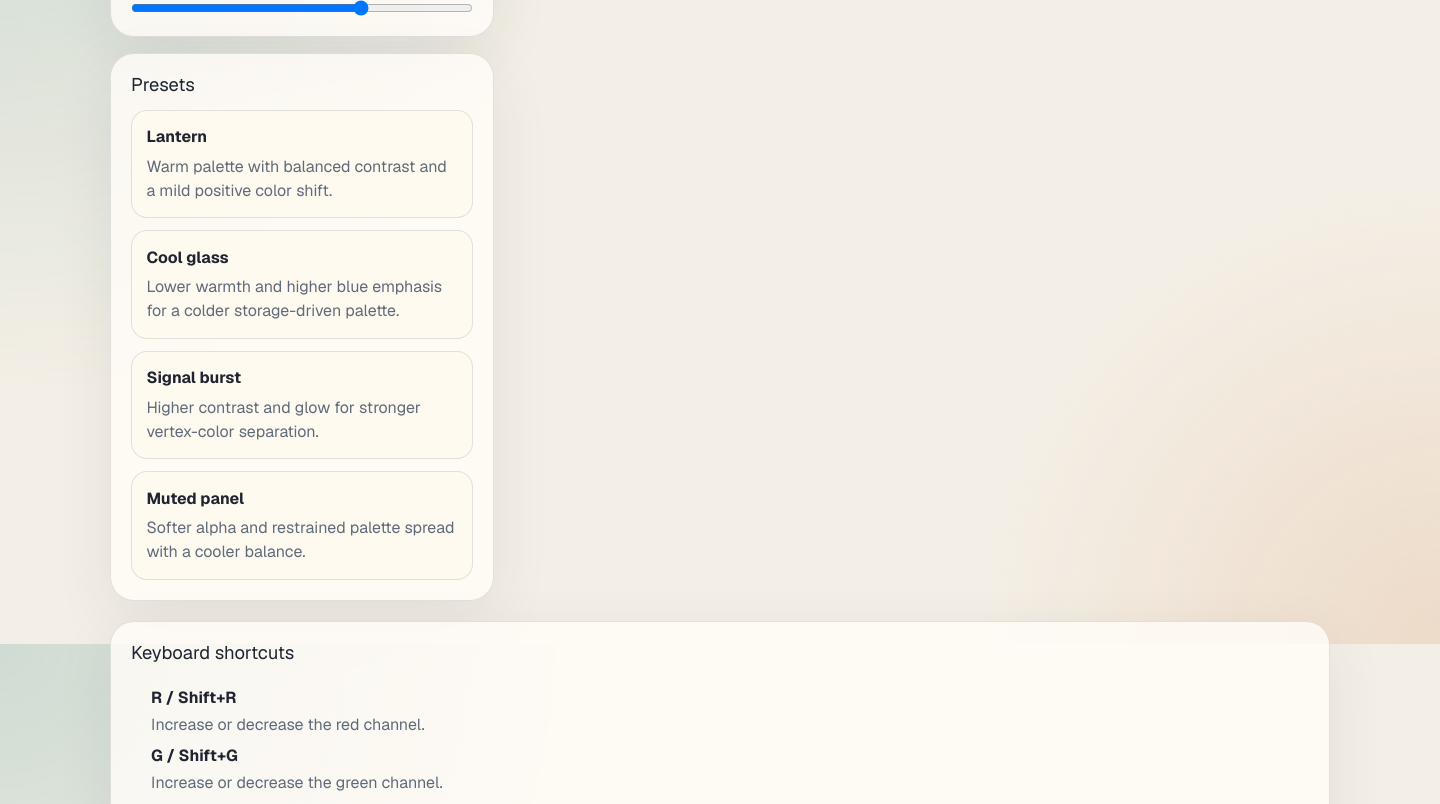
it: WebGpuStoragePalettePageClient › applies presets and updates the summary without requiring a GPU runtime
(page scrolled)
Click the button "Signal burst Higher contrast and glow for stronger vertex-color separation.": (302, 405) [131, 351, 473, 459]
(page scrolled)
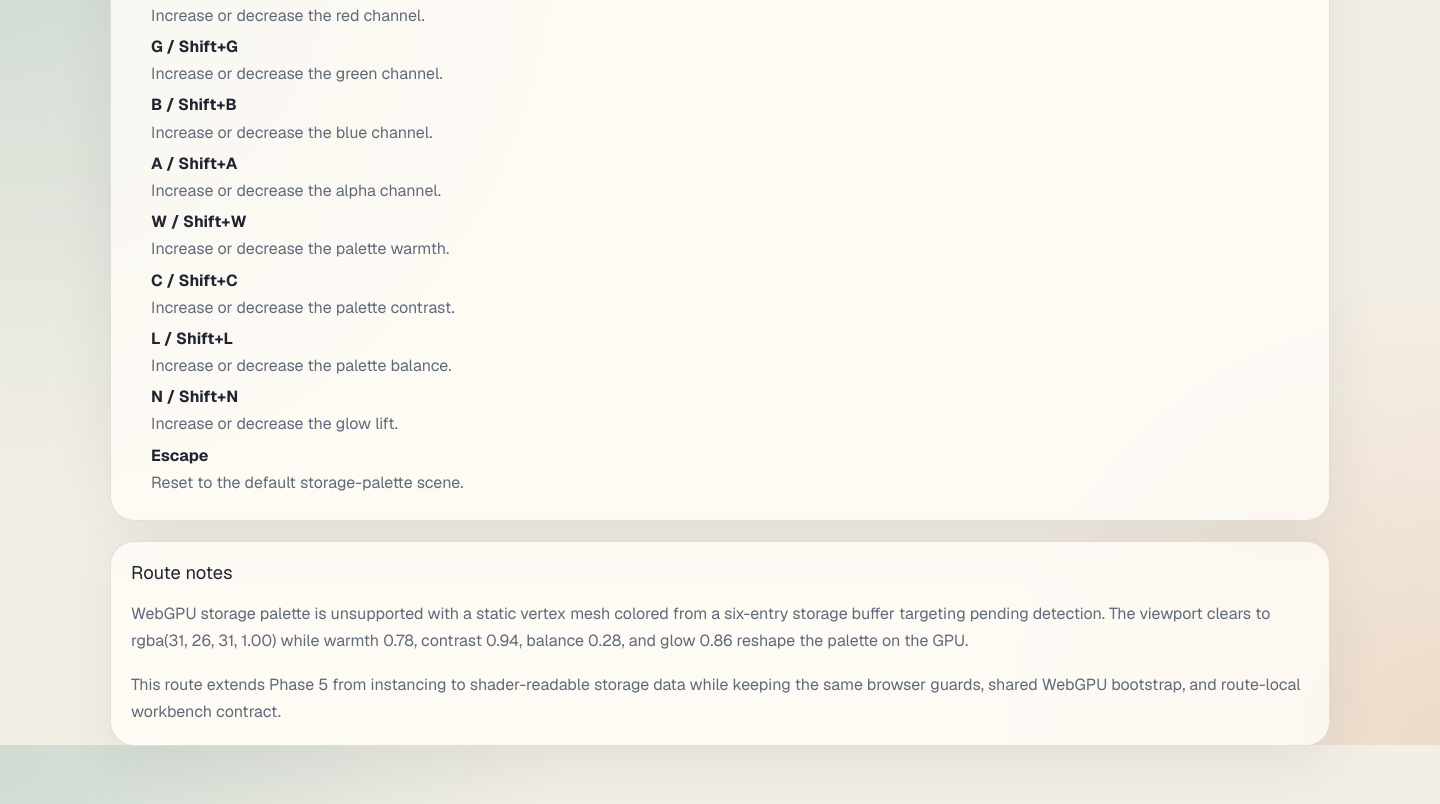
Expected: the text "warmth 0.78, contrast 0.94, balance 0.28, and glow 0.86" is shown, [131, 603, 1270, 651]
